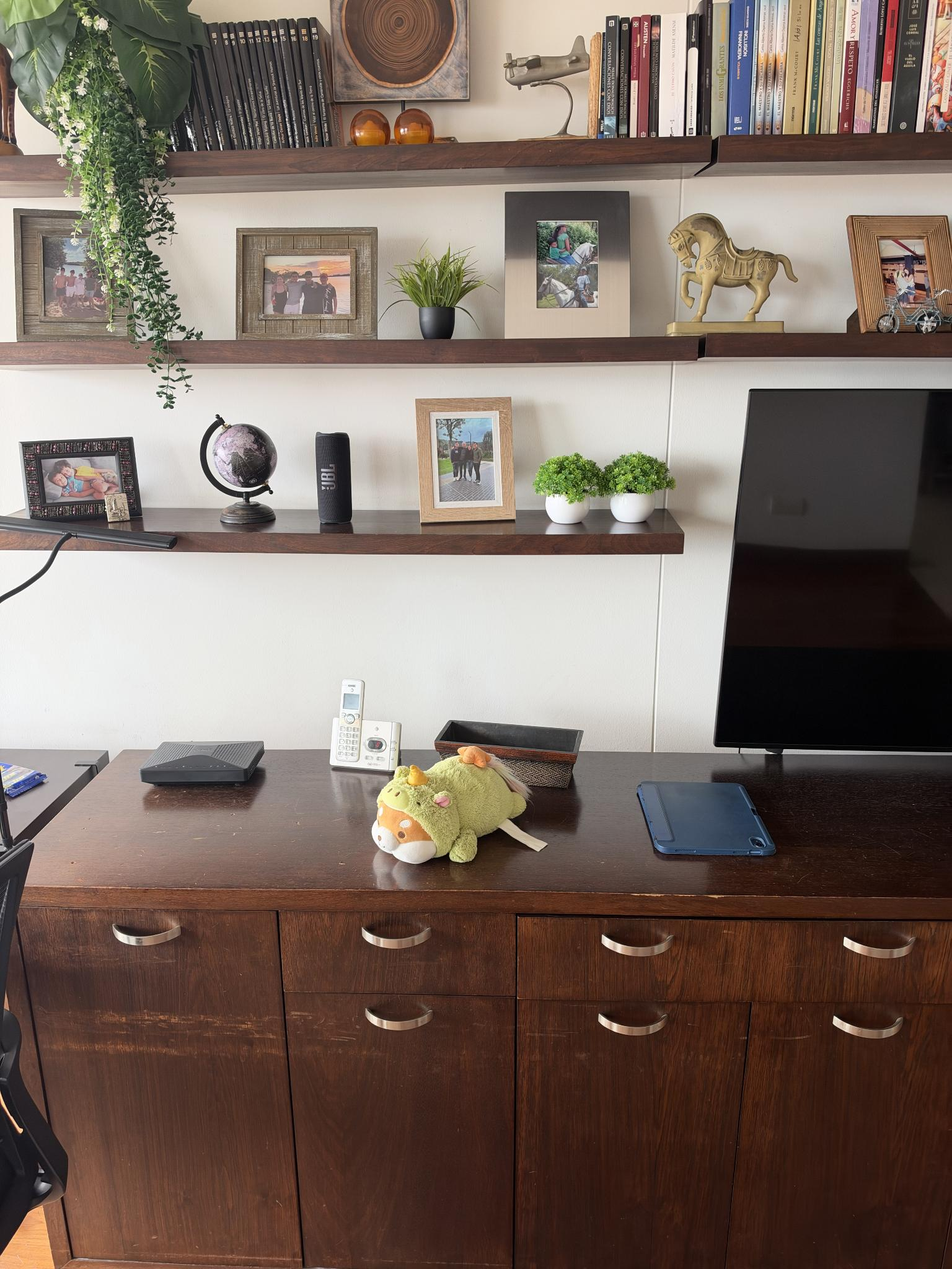peluche_martin: (371, 746, 549, 864)
